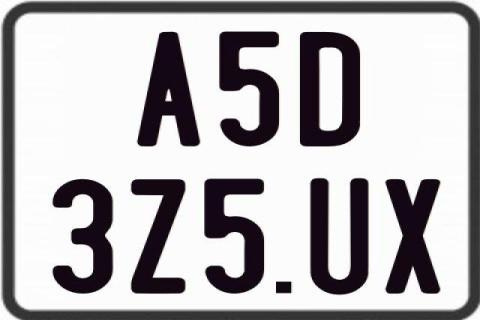0: (51, 179, 115, 295), (216, 30, 278, 146), (204, 177, 265, 293)
A: (135, 31, 200, 147)
D: (299, 32, 361, 150)
U: (309, 178, 371, 296)
X: (387, 177, 444, 293)
Z: (132, 178, 188, 294)
